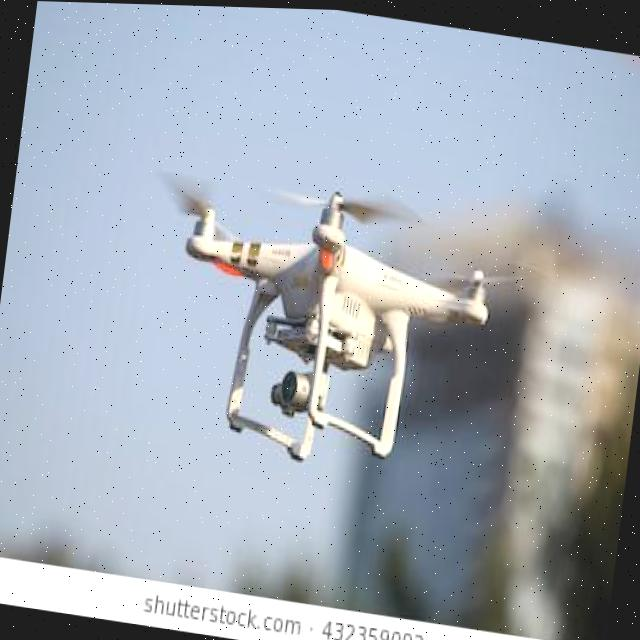drone: (110, 131, 574, 496)
